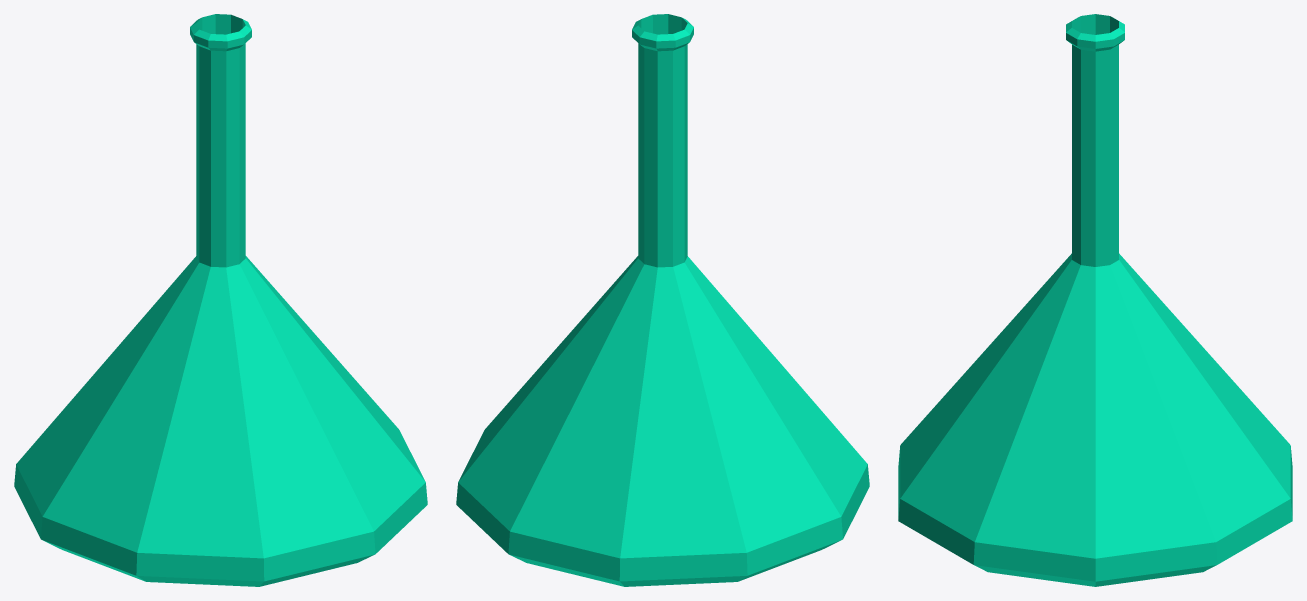
The model's file is lab.fbx.
3 views of the same model, side by side, from view 1: azimuth 30°, elevation 25°; view 2: azimuth 150°, elevation 25°; view 3: azimuth 270°, elevation 25° (orthographic).
Parts seen in each view (by area): view 1: lab; view 2: lab; view 3: lab.
Part boxes in pixels (x1,y1,x2,y2): lab: (14,14,427,586); lab: (456,14,869,586); lab: (898,14,1292,586).
Size of the model in its own units: 180 by 233 by 172.
